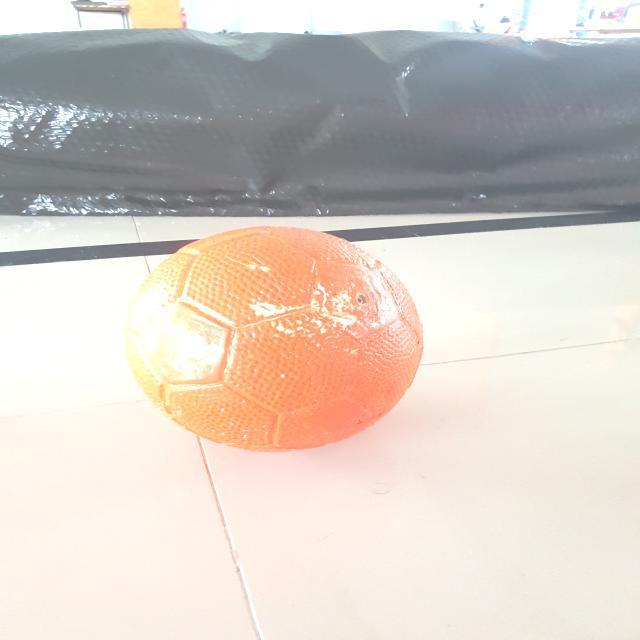bola: (120, 222, 440, 460)
